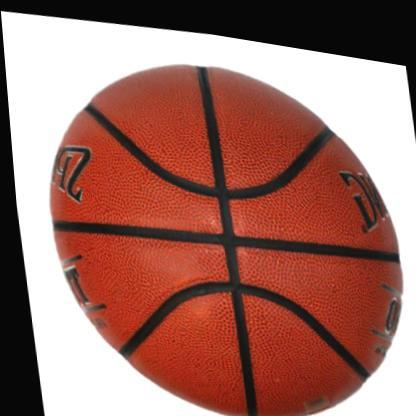basketball: (27, 24, 416, 416)
